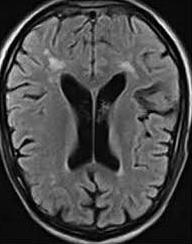Normal_Brain: (1, 1, 173, 244)
